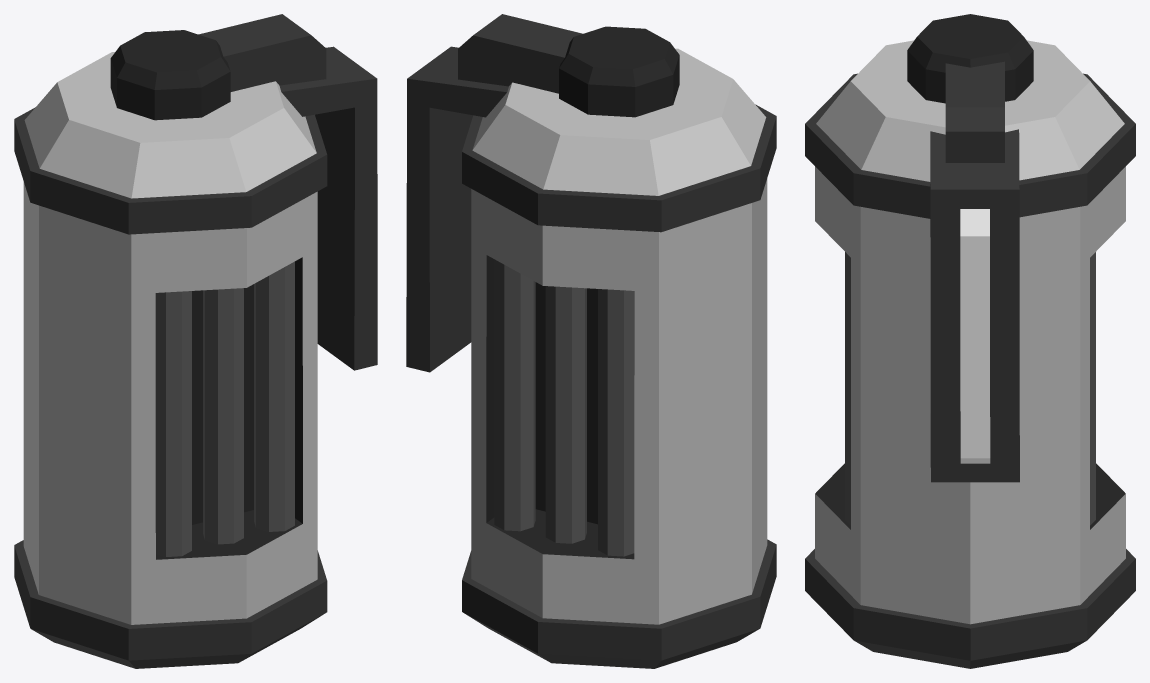
Rendered from Grenade_A_V2.FBX.
The picture shows the model from 3 angles, left to right: view 1: azimuth 30°, elevation 25°; view 2: azimuth 150°, elevation 25°; view 3: azimuth 270°, elevation 25°; orthographic projection. The views are drawn at different scales.
Visible parts, largest first — view 1: Grenade_A_V2; view 2: Grenade_A_V2; view 3: Grenade_A_V2.
Part boxes in pixels (x1,y1,x2,y2): Grenade_A_V2: (14,14,377,668); Grenade_A_V2: (406,14,776,668); Grenade_A_V2: (805,14,1135,668).
Size of the model in its own units: 33.28 by 52.81 by 27.57.
